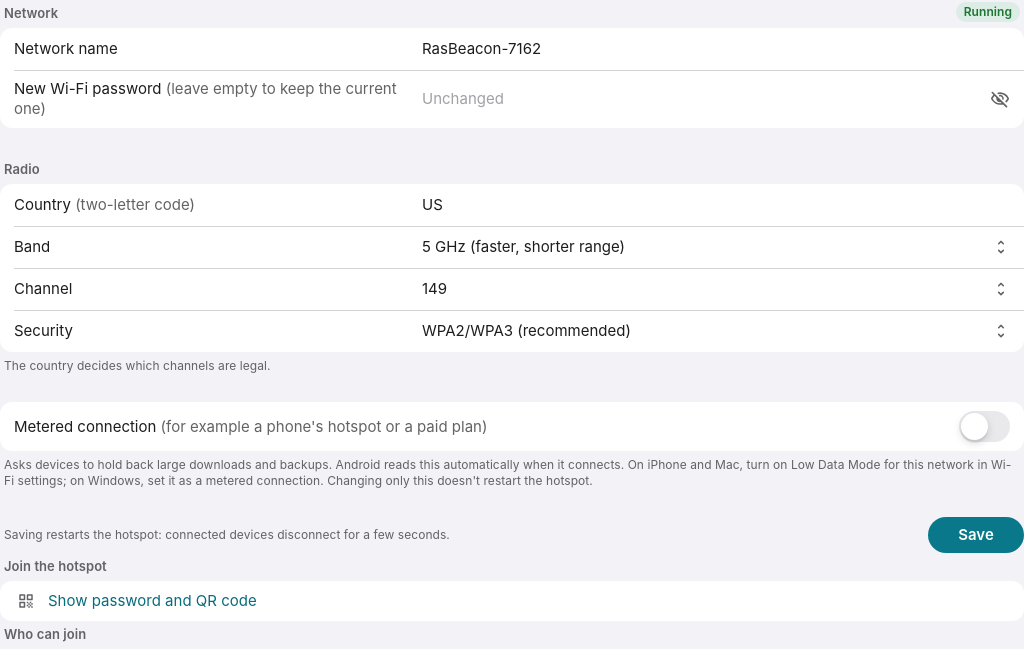
Test: hotspot form › channels by country › keeps a channel the new country forbids visible, and says so
Replace the text in the field labelled "Country (two-letter code)" with "JP" at (716, 205), box left=422, top=193, right=1010, bottom=217
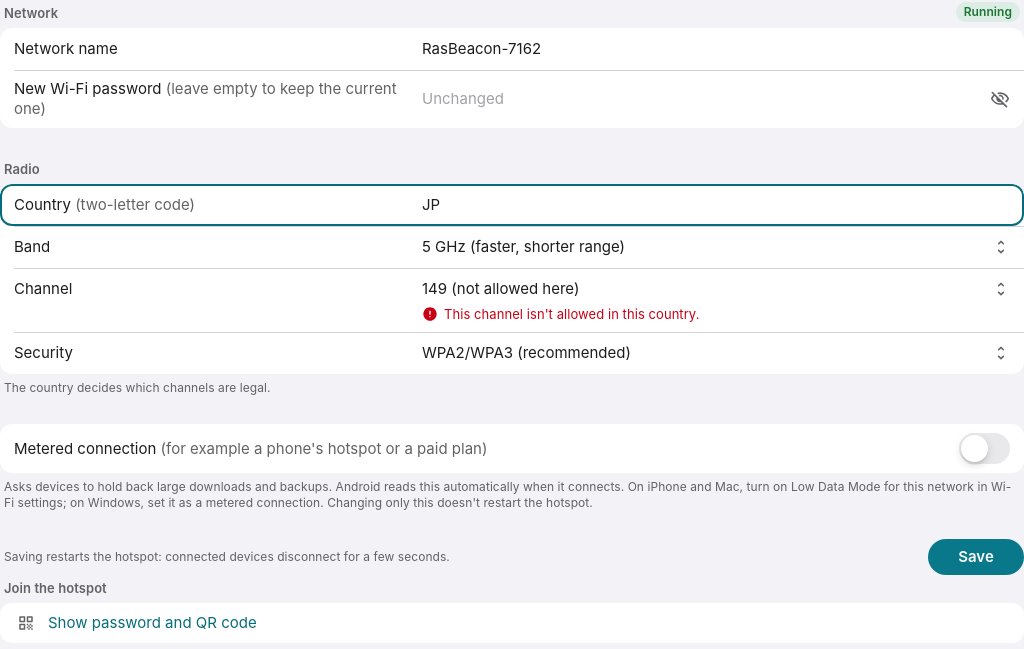
Expected: the text "This channel isn't allowed in this country." is shown, left=444, top=305, right=700, bottom=323
Select "36" in the dropdown labelled "Channel" at (716, 289), box left=422, top=277, right=1010, bottom=301
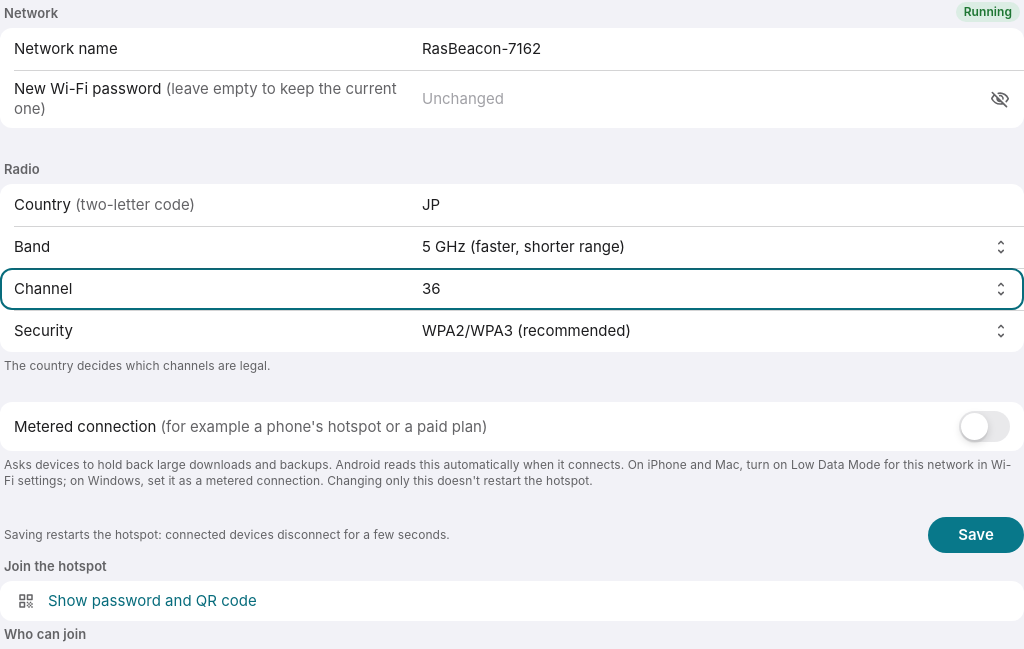
Expected: the text "This channel isn't allowed in this country." is gone
